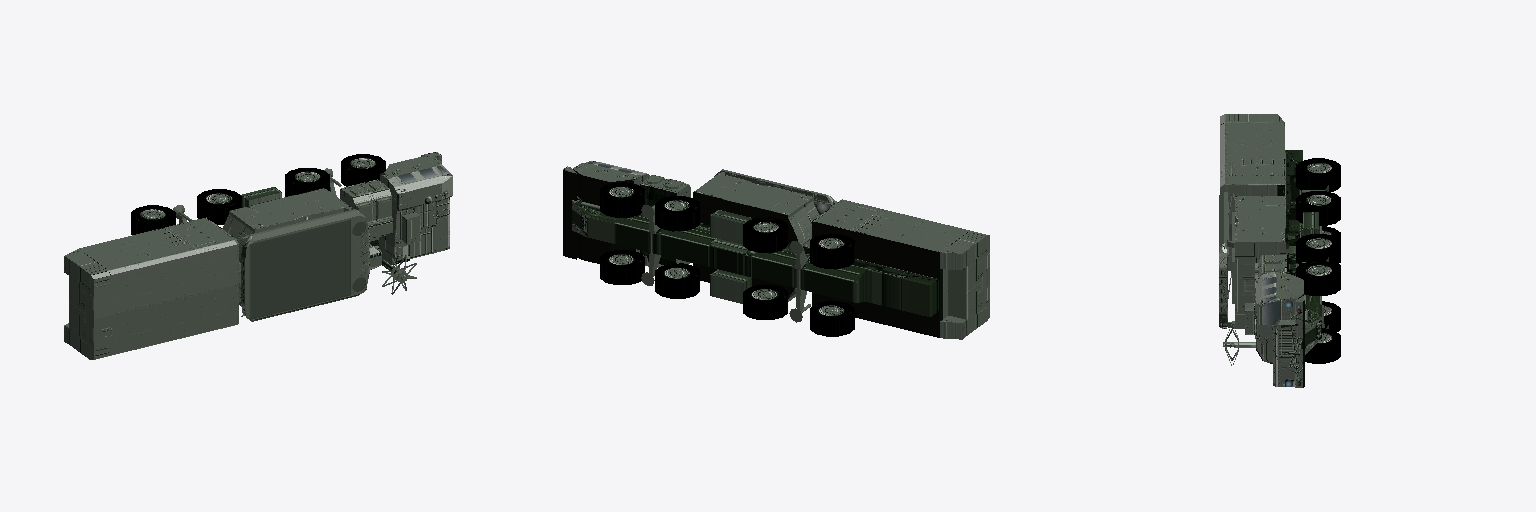
3 renders of one model, left to right at view 1: azimuth 30°, elevation 25°; view 2: azimuth 150°, elevation 25°; view 3: azimuth 270°, elevation 25°, orthographic.
Visible parts, largest first — view 1: Object__0, Object__87, Object__7, Object__11, Object__13, Object__27, Object__19, Object__29, Object__21, Object__2; view 2: Object__0, Object__17, Object__11, Object__7, Object__53, Object__45, Object__27, Object__21, Object__29, Object__51, Object__19, Object__43 (+6 smaller); view 3: Object__0, Object__11, Object__7, Object__17, Object__29, Object__19, Object__87, Object__27, Object__21, Object__5, Object__43, Object__13.
Part boxes in pixels (bbox=[...]): Object__0: bbox=[64, 217, 238, 359]; Object__87: bbox=[241, 209, 369, 321]; Object__7: bbox=[379, 156, 452, 264]; Object__11: bbox=[229, 188, 349, 305]; Object__13: bbox=[340, 179, 392, 269]; Object__27: bbox=[197, 189, 241, 224]; Object__19: bbox=[341, 154, 385, 186]; Object__29: bbox=[131, 205, 175, 234]; Object__21: bbox=[285, 168, 329, 196]; Object__2: bbox=[402, 212, 420, 243]; Object__0: bbox=[812, 199, 989, 339]; Object__17: bbox=[572, 200, 938, 316]; Object__11: bbox=[693, 174, 813, 301]; Object__7: bbox=[573, 161, 649, 263]; Object__53: bbox=[810, 301, 854, 336]; Object__45: bbox=[655, 263, 699, 298]; Object__27: bbox=[743, 217, 787, 252]; Object__21: bbox=[655, 196, 699, 231]; Object__29: bbox=[810, 234, 854, 268]; Object__51: bbox=[743, 285, 787, 319]; Object__19: bbox=[600, 182, 644, 217]; Object__43: bbox=[600, 250, 644, 284]; Object__0: bbox=[1220, 114, 1284, 270]; Object__11: bbox=[1232, 196, 1285, 328]; Object__7: bbox=[1255, 272, 1303, 386]; Object__17: bbox=[1285, 150, 1321, 354]; Object__29: bbox=[1296, 158, 1340, 191]; Object__19: bbox=[1296, 261, 1340, 295]; Object__87: bbox=[1219, 192, 1227, 328]; Object__27: bbox=[1296, 191, 1340, 225]; Object__21: bbox=[1296, 234, 1340, 264]; Object__5: bbox=[1295, 295, 1304, 387]; Object__43: bbox=[1305, 328, 1340, 363]; Object__13: bbox=[1255, 255, 1287, 338].
Size of the model in its own units: 1 by 0.2404 by 0.2743.
1 materials, 1 textured.